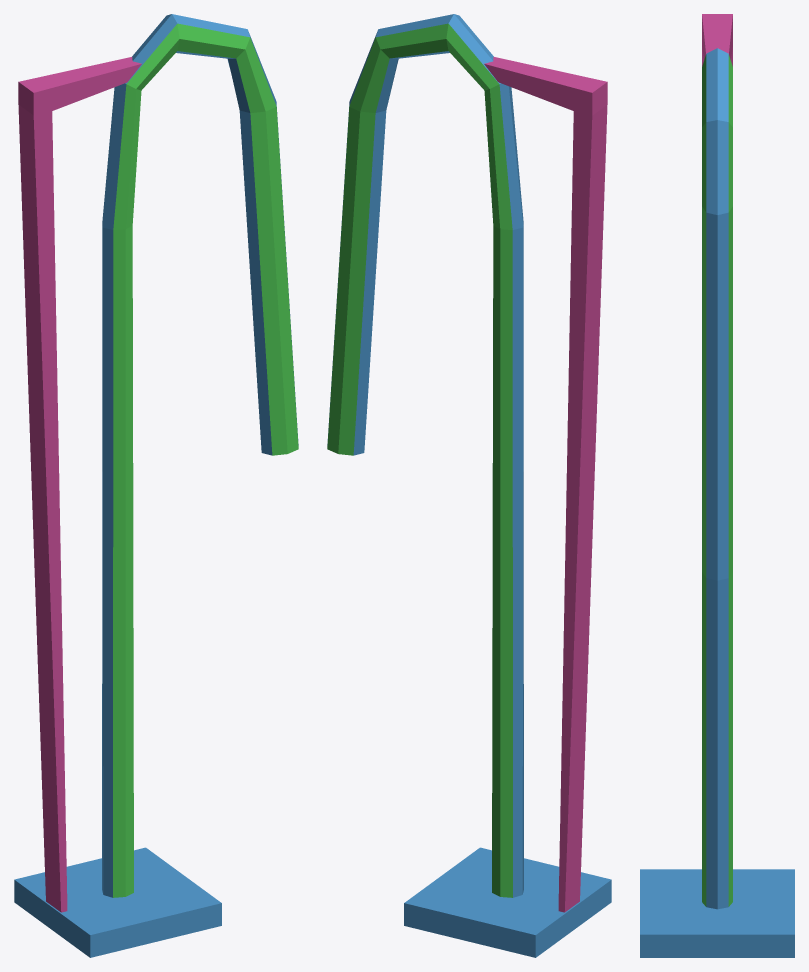
Rendered from Sliding Pole.fbx.
3 renders of one model, left to right at view 1: azimuth 30°, elevation 25°; view 2: azimuth 150°, elevation 25°; view 3: azimuth 270°, elevation 25°, orthographic.
Parts seen in each view (by area): view 1: Cube.006; view 2: Cube.006; view 3: Cube.006.
Part boxes in pixels (bbox=[...]): Cube.006: bbox=[14, 14, 298, 957]; Cube.006: bbox=[327, 14, 611, 957]; Cube.006: bbox=[640, 14, 794, 957].
Bounding box in the file's own units: 414 × 1288 × 200.
